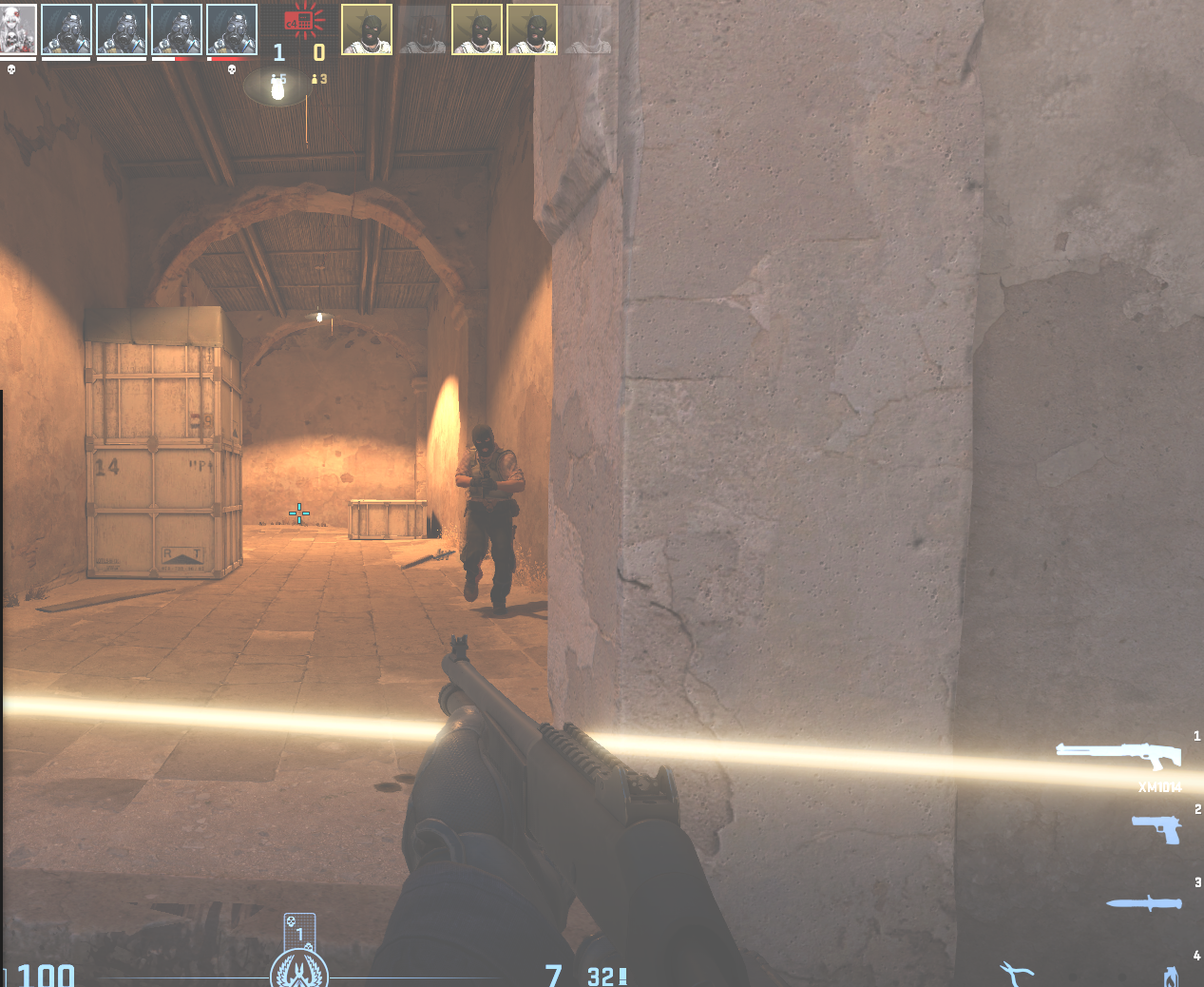T: (449, 424, 524, 610)
